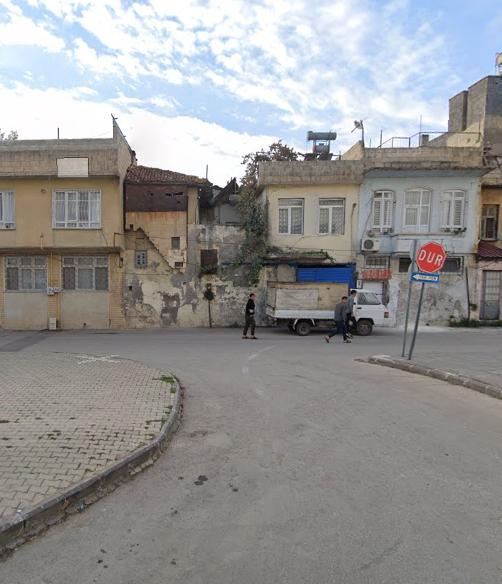stop: (418, 244, 445, 273)
